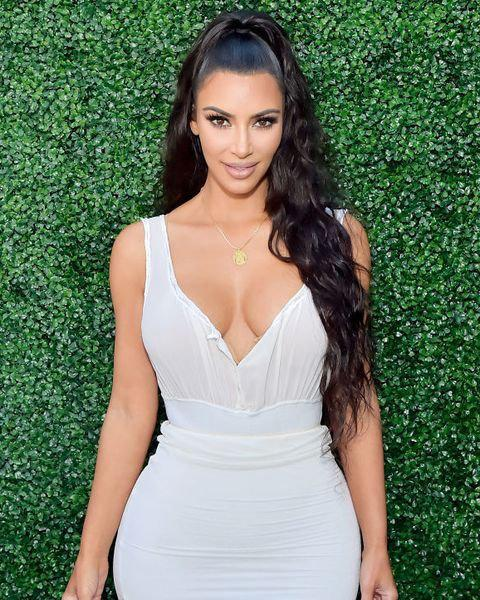Sober: (199, 79, 279, 189)
